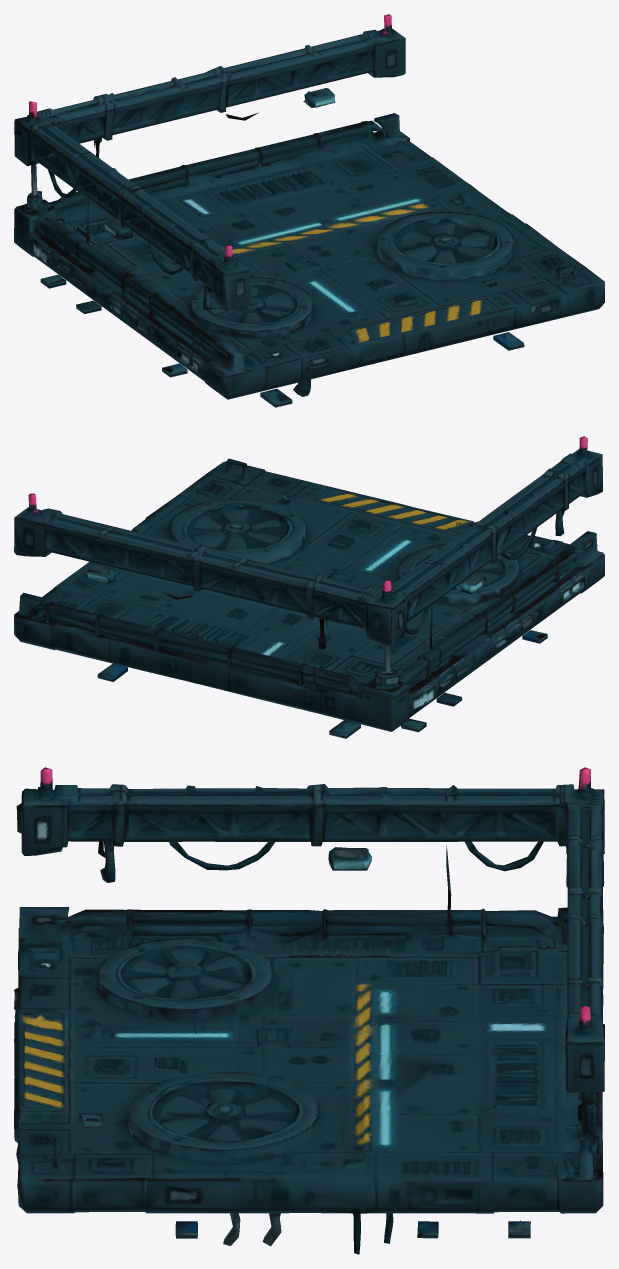
The model's file is CeilingBoss.fbx.
The picture shows the model from 3 angles, top to bottom: view 1: azimuth 30°, elevation 25°; view 2: azimuth 150°, elevation 25°; view 3: azimuth 270°, elevation 25°; orthographic projection. The views are drawn at different scales.
Visible parts, largest first — view 1: tripo_node_ef591d94; view 2: tripo_node_ef591d94; view 3: tripo_node_ef591d94.
Part boxes in pixels (x1,y1,x2,y2): tripo_node_ef591d94: [14, 14, 604, 407]; tripo_node_ef591d94: [14, 436, 604, 738]; tripo_node_ef591d94: [14, 767, 604, 1254].
Bounding box in the file's own units: 0.9984 × 0.4373 × 0.9637.
Materials: 1 (1 with a texture image).
